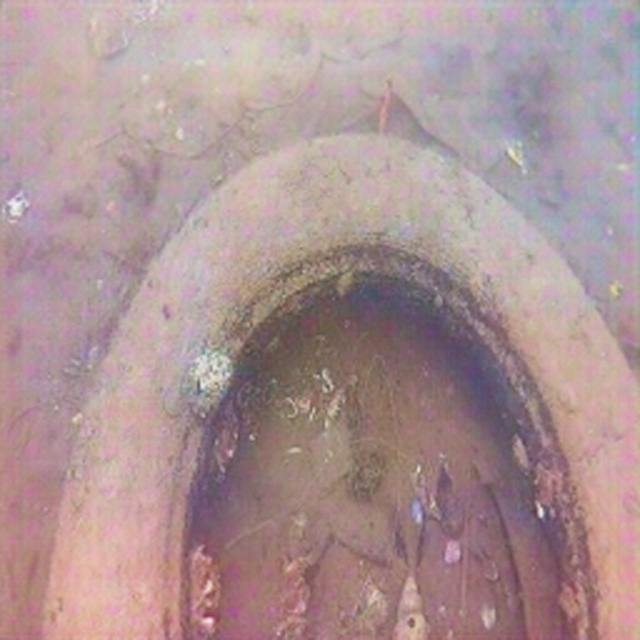mine: (38, 129, 640, 639)
